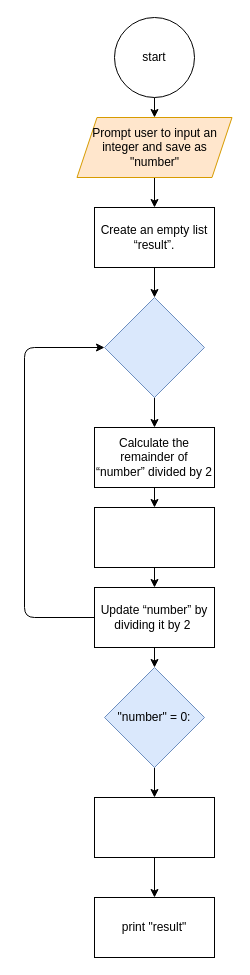
Image size: 250x975. Some labels were removed from this diagram. The centre of each missing label's shape, as x and y in pixels:
Append remainder to the result list.: (x=154, y=537)
end loop: (x=154, y=827)
while "number" > 0:: (x=154, y=347)
